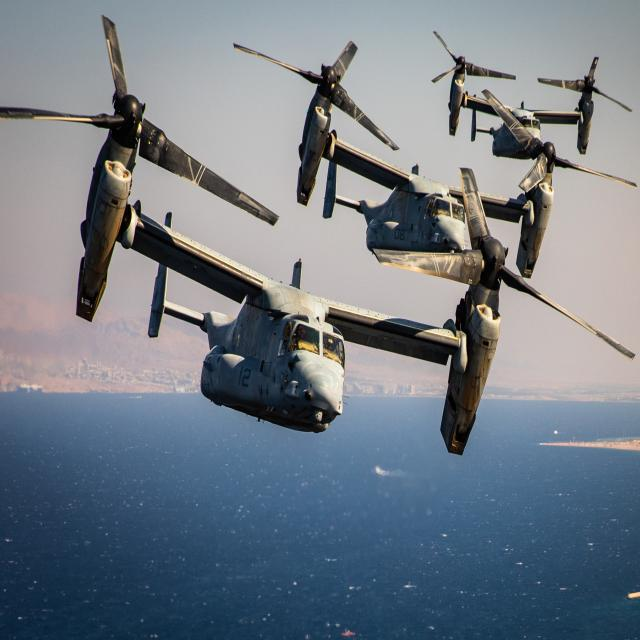MIL_Plane: (0, 13, 636, 456), (238, 40, 633, 279), (431, 30, 633, 160)
